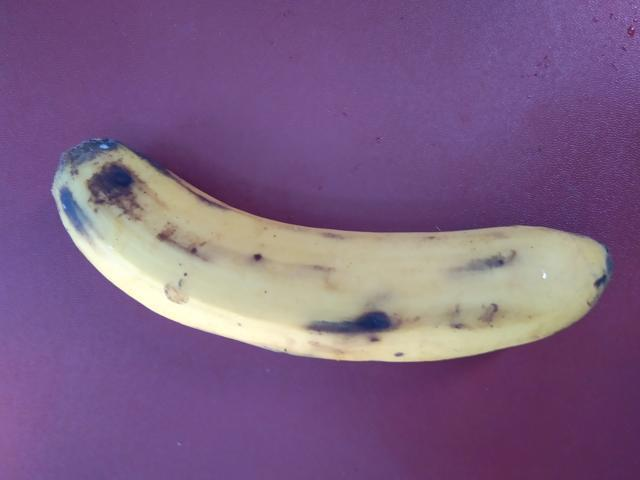ripe: (43, 115, 636, 394)
